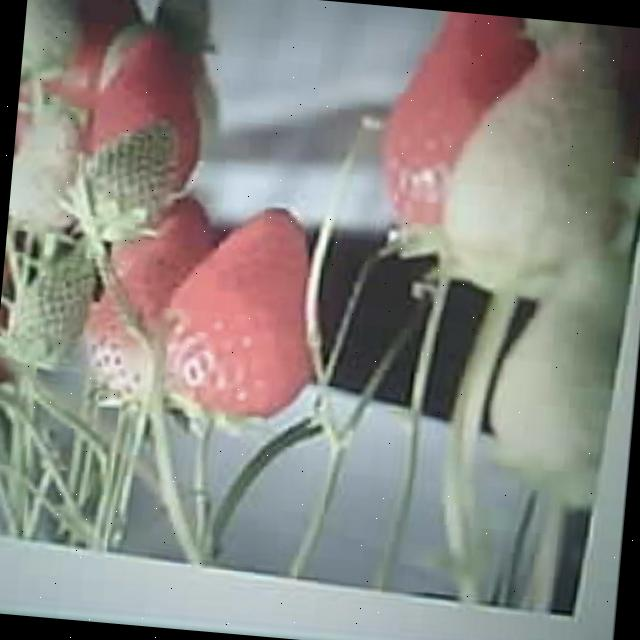strawberry: (443, 26, 635, 300), (372, 5, 538, 257), (486, 251, 632, 506), (157, 203, 326, 420), (84, 189, 220, 418), (74, 109, 180, 242), (10, 242, 100, 370), (7, 110, 87, 233), (19, 0, 86, 86)
